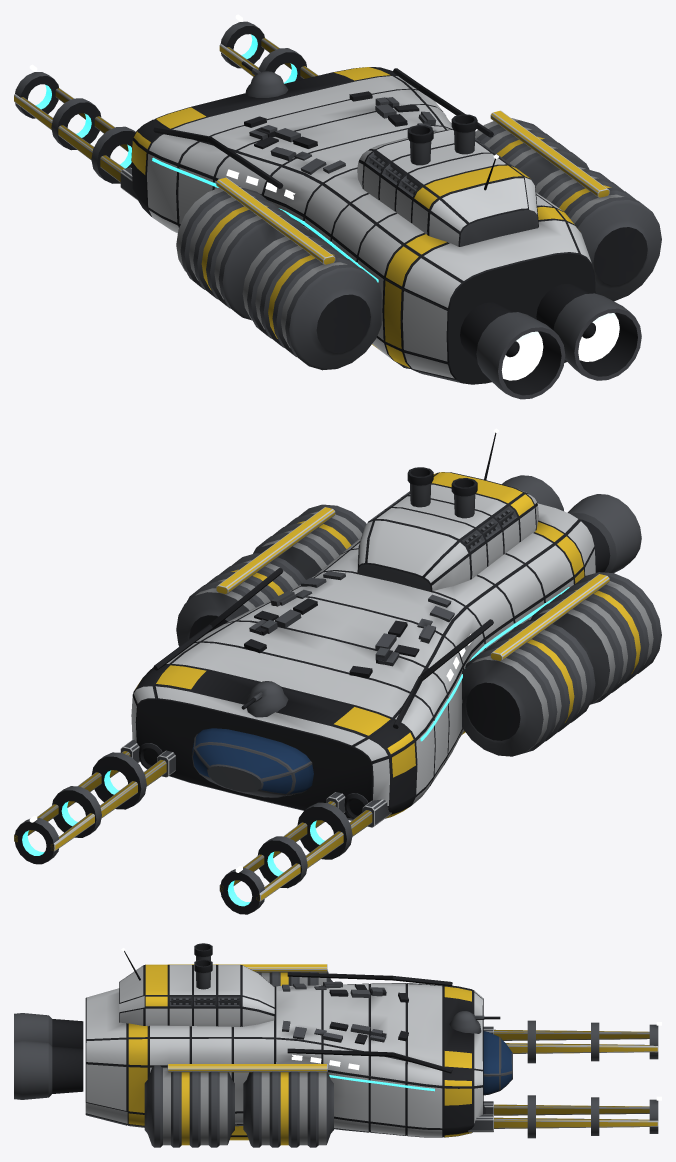
File: ship_delver.glb
3 renders of one model, top to bottom at view 1: azimuth 30°, elevation 25°; view 2: azimuth 150°, elevation 25°; view 3: azimuth 270°, elevation 25°, orthographic. The views are drawn at different scales.
Parts seen in each view (by area): view 1: ship_delver_mesh; view 2: ship_delver_mesh; view 3: ship_delver_mesh.
Boxes of the visible parts, bbox=[...] form: ship_delver_mesh: bbox=[14, 14, 661, 399]; ship_delver_mesh: bbox=[14, 428, 661, 914]; ship_delver_mesh: bbox=[14, 943, 661, 1147].
Size of the model in its own units: 15.22 by 9.43 by 30.78.
